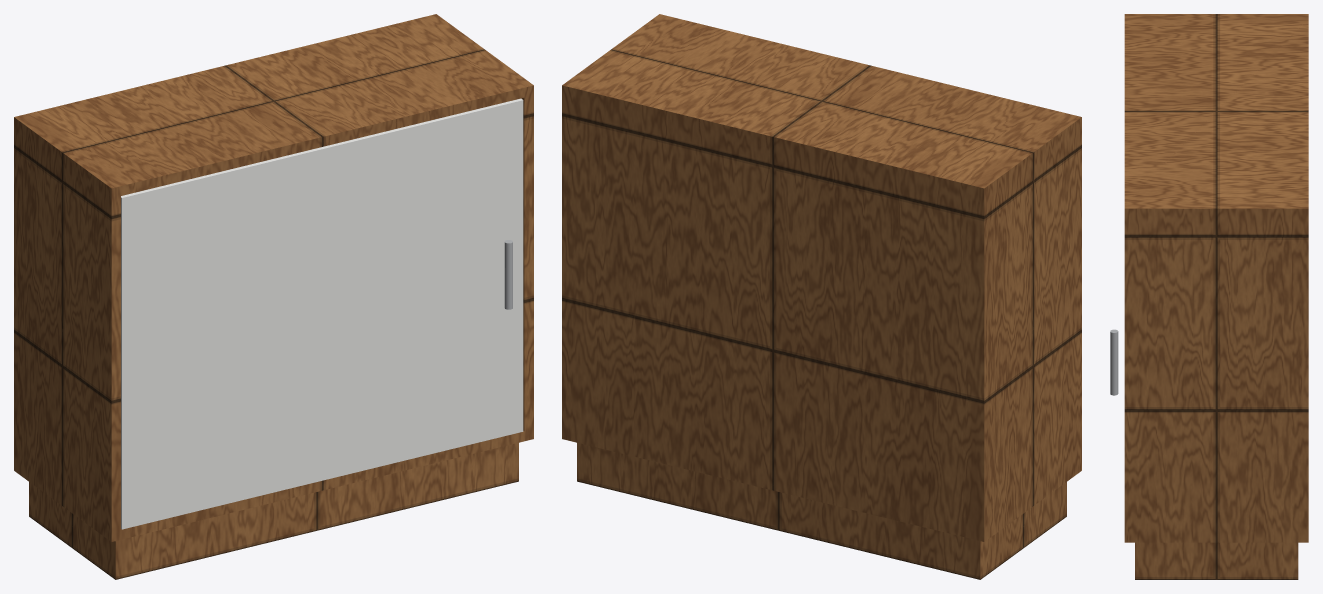
The model's file is Konyhai_falialelem_80.obj.
The picture shows the model from 3 angles, left to right: view 1: azimuth 30°, elevation 25°; view 2: azimuth 150°, elevation 25°; view 3: azimuth 270°, elevation 25°; orthographic projection. The views are drawn at different scales.
Size of the model in its own units: 0.8 by 0.72 by 0.345.
3 materials, 1 textured.
